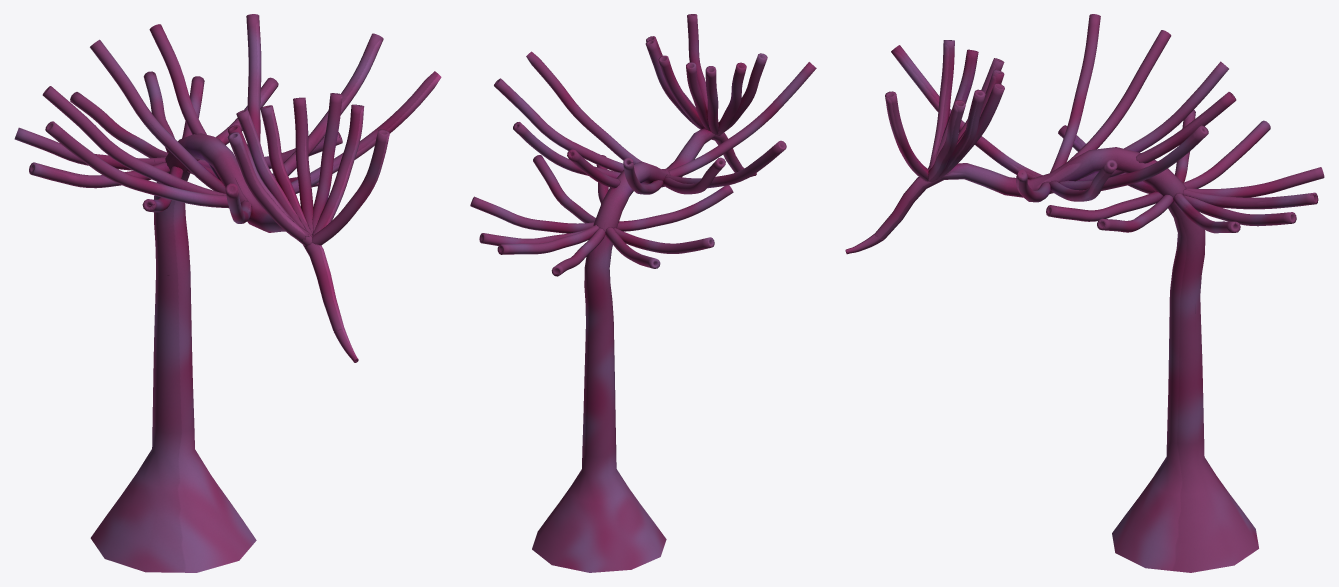
Rendered from tree3.fbx.
3 renders of one model, left to right at view 1: azimuth 30°, elevation 25°; view 2: azimuth 150°, elevation 25°; view 3: azimuth 270°, elevation 25°, orthographic. The views are drawn at different scales.
Parts seen in each view (by area): view 1: tree; view 2: tree; view 3: tree.
Part boxes in pixels (x1,y1,x2,y2): tree: (14,14,441,572); tree: (470,14,816,572); tree: (845,14,1324,572).
Bounding box in the file's own units: 584 × 813 × 749.
